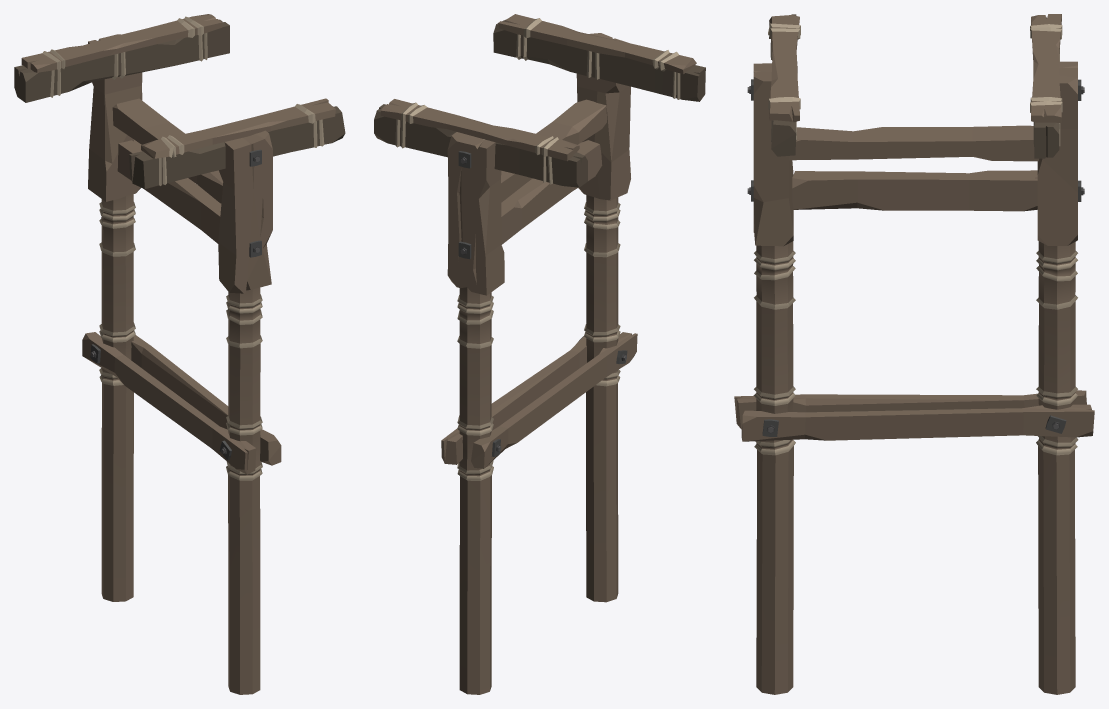
The model's file is SM_Env_Wood_Supports_02.glb.
3 renders of one model, left to right at view 1: azimuth 30°, elevation 25°; view 2: azimuth 150°, elevation 25°; view 3: azimuth 270°, elevation 25°, orthographic. The views are drawn at different scales.
Parts seen in each view (by area): view 1: SM_Env_Wood_Supports_02; view 2: SM_Env_Wood_Supports_02; view 3: SM_Env_Wood_Supports_02.
Part boxes in pixels (box(x1,y1,x2,y2)): SM_Env_Wood_Supports_02: box(14, 14, 345, 694); SM_Env_Wood_Supports_02: box(374, 14, 705, 694); SM_Env_Wood_Supports_02: box(734, 14, 1094, 694).
Bounding box in the file's own units: 0.0444 × 0.1145 × 0.0598.
Materials: 1 (1 with a texture image).
